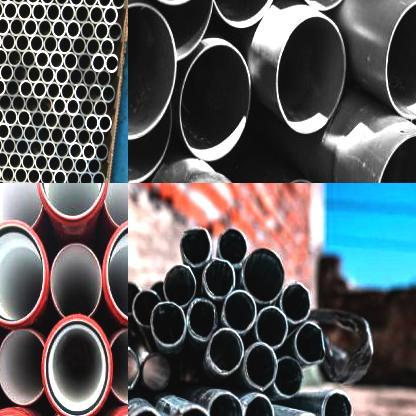pipe: (179, 42, 252, 162), (276, 15, 347, 134), (41, 314, 113, 416), (128, 1, 177, 140), (133, 0, 214, 61), (0, 220, 46, 326), (50, 243, 102, 317), (128, 101, 173, 183), (385, 0, 416, 118), (0, 329, 44, 406), (36, 183, 109, 222), (103, 217, 128, 329), (244, 248, 284, 304), (213, 0, 281, 29), (376, 134, 416, 183), (0, 183, 43, 226), (209, 328, 244, 376), (150, 302, 186, 347), (244, 342, 277, 388), (223, 290, 256, 334), (254, 306, 288, 348), (164, 264, 197, 306), (280, 282, 312, 324), (294, 322, 326, 364), (111, 327, 128, 405), (187, 298, 217, 342), (180, 227, 212, 266), (204, 259, 235, 299), (274, 357, 303, 399), (218, 228, 249, 266), (132, 289, 161, 328), (209, 392, 243, 416), (322, 390, 351, 416), (243, 393, 274, 416), (128, 346, 139, 391), (128, 280, 141, 315), (60, 2, 75, 24), (74, 4, 90, 24), (89, 4, 104, 24), (103, 5, 118, 25), (9, 16, 24, 36), (80, 20, 95, 40), (94, 21, 109, 41), (1, 32, 16, 52), (15, 32, 30, 52), (29, 34, 44, 54), (43, 34, 58, 54), (21, 48, 36, 68), (35, 50, 50, 70), (77, 52, 92, 72), (18, 1, 32, 22), (32, 1, 46, 22), (86, 36, 100, 57), (7, 48, 22, 67), (13, 64, 28, 83), (3, 0, 17, 20), (46, 2, 60, 22), (38, 18, 52, 38), (66, 20, 80, 40), (108, 22, 122, 42), (58, 34, 72, 54), (72, 36, 86, 56), (100, 37, 114, 57), (49, 50, 63, 70), (92, 52, 106, 72), (27, 64, 41, 84), (55, 66, 69, 86), (96, 68, 110, 88), (82, 68, 96, 88), (101, 84, 115, 104), (56, 140, 70, 160), (23, 18, 38, 36), (52, 19, 66, 38), (64, 51, 78, 70), (105, 53, 119, 72), (41, 66, 55, 85), (68, 68, 82, 87), (5, 79, 19, 98), (19, 80, 33, 99), (33, 80, 47, 99), (46, 81, 60, 100), (74, 83, 88, 102), (88, 84, 102, 103), (11, 94, 25, 113), (25, 94, 39, 113), (39, 96, 53, 115), (52, 96, 66, 115), (66, 98, 80, 117), (80, 98, 94, 117), (94, 99, 108, 118), (4, 108, 18, 127), (17, 109, 31, 128), (30, 110, 44, 129), (44, 111, 58, 130), (58, 113, 72, 132), (71, 113, 85, 132), (85, 113, 99, 132), (98, 114, 112, 133), (10, 123, 24, 142), (23, 124, 37, 143), (63, 127, 77, 146), (90, 128, 104, 147), (42, 140, 56, 159), (69, 141, 83, 160), (82, 142, 96, 161), (95, 143, 109, 162), (37, 126, 51, 144), (76, 128, 90, 146), (2, 138, 16, 156), (29, 140, 43, 158), (8, 152, 22, 170), (21, 152, 35, 170), (34, 154, 48, 172), (48, 154, 62, 172), (74, 156, 88, 174), (86, 157, 100, 175), (0, 63, 13, 82), (61, 82, 74, 101), (50, 127, 63, 146), (15, 139, 29, 156), (1, 166, 15, 183), (0, 93, 12, 112), (27, 167, 41, 183), (14, 167, 28, 183), (61, 156, 74, 173), (40, 169, 54, 183), (53, 169, 67, 183), (0, 122, 10, 141), (66, 170, 80, 183), (79, 170, 93, 183), (0, 16, 9, 36), (91, 171, 105, 183), (0, 151, 9, 169), (0, 47, 7, 66), (111, 0, 125, 9), (0, 77, 6, 96), (97, 0, 111, 8), (68, 0, 83, 7), (83, 0, 97, 7), (54, 0, 69, 6), (0, 107, 4, 126), (40, 0, 55, 5), (25, 0, 40, 4), (0, 0, 3, 19), (0, 137, 3, 154)
